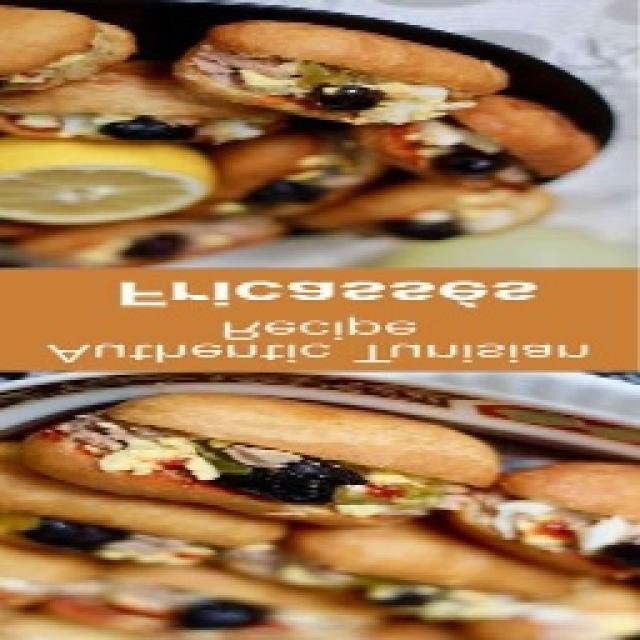Frecasse: (0, 380, 640, 640), (0, 0, 612, 268)
